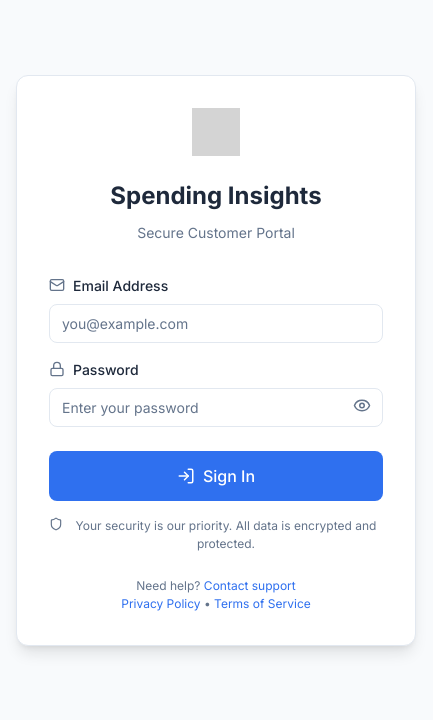
it: LoginPage Component › should show error for empty email
This screenshot has width=433, height=720.
Click the button "Sign In".
click(216, 476)  # box left=49, top=450, right=383, bottom=500
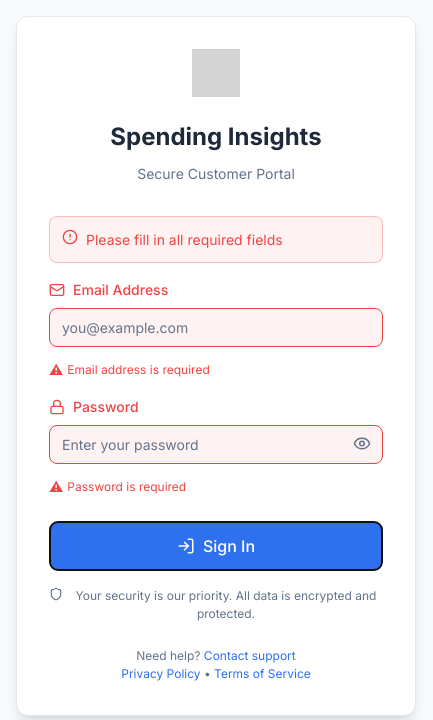
Expected: the text "Email address is required" is shown, left=67, top=362, right=210, bottom=376
